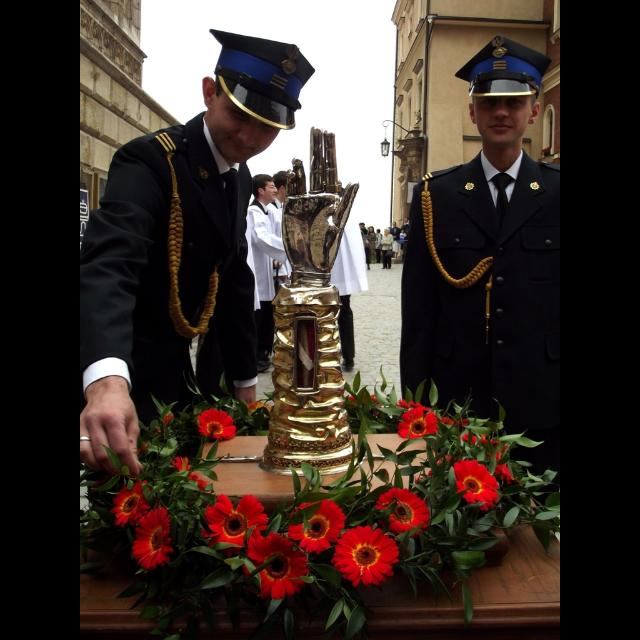Flower: (328, 524, 408, 586), (248, 534, 314, 600), (198, 492, 268, 554), (284, 499, 350, 559), (128, 504, 180, 570), (374, 483, 431, 539), (450, 458, 504, 510), (112, 482, 152, 526), (396, 405, 442, 441), (195, 409, 239, 443), (247, 402, 273, 433)
